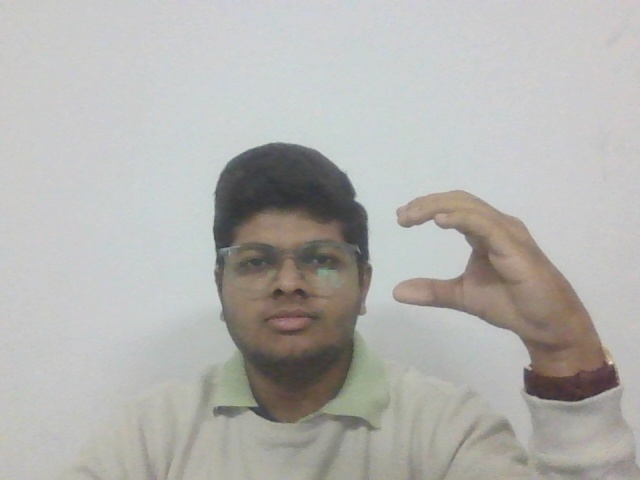C: (390, 186, 581, 352)
